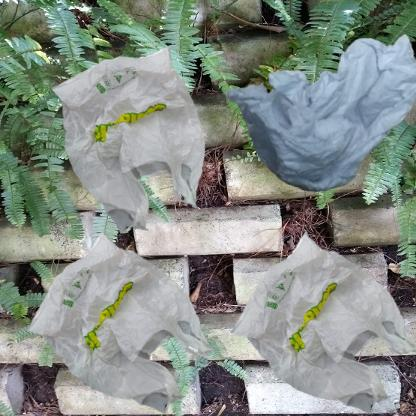bolsa: (10, 10, 268, 275), (10, 213, 229, 416), (213, 213, 416, 416)
papel: (213, 10, 416, 209)
